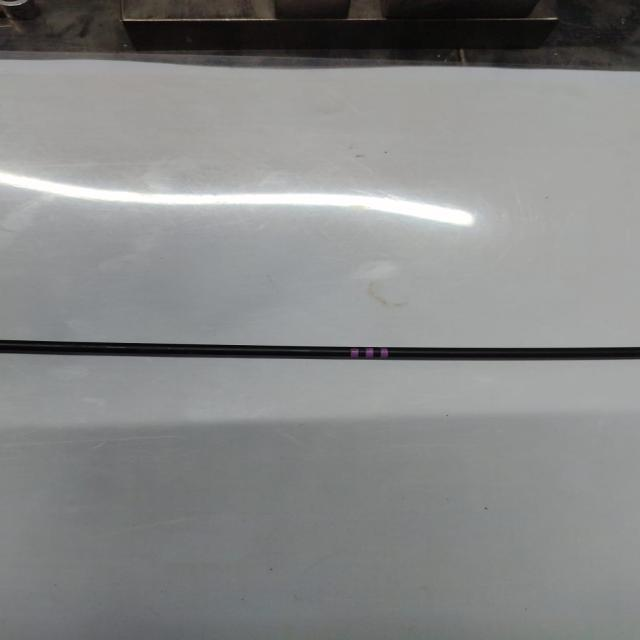pink: (350, 347, 388, 358)
